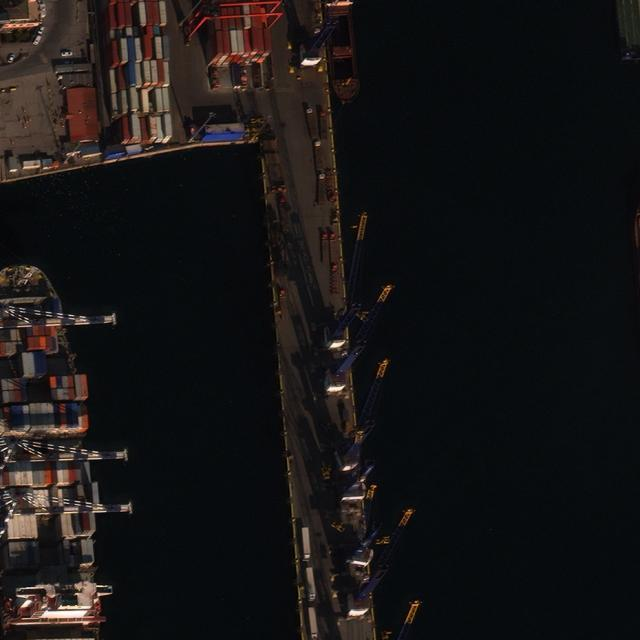Container Ship: (3, 266, 99, 640)
